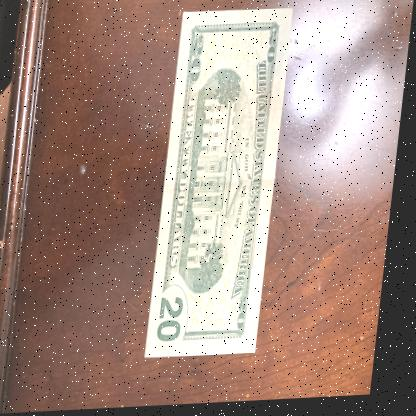fifty-back: (140, 7, 294, 358)
